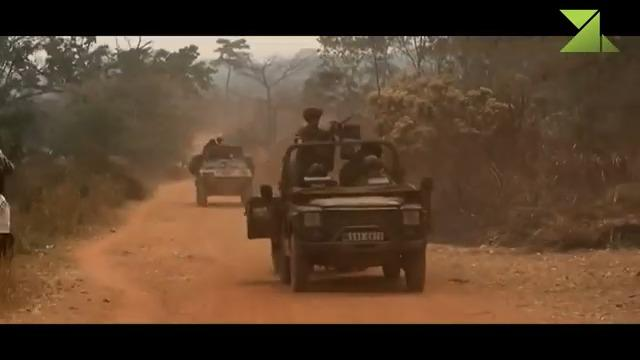MIL_HMMWV: (243, 134, 433, 291), (196, 156, 254, 207), (294, 108, 336, 172)
